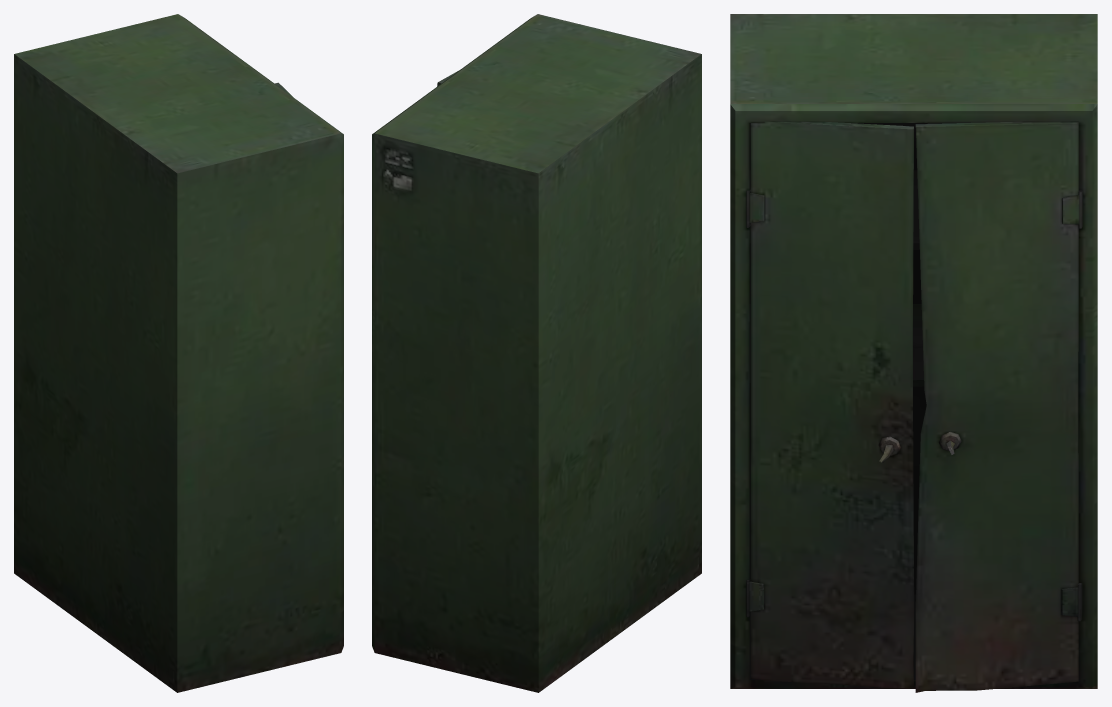
Rendered from controlroom_storagecloset001b.glb.
3 views of the same model, side by side, from view 1: azimuth 30°, elevation 25°; view 2: azimuth 150°, elevation 25°; view 3: azimuth 270°, elevation 25° (orthographic). The views are drawn at different scales.
Parts seen in each view (by area): view 1: 0_controlroom_cabinets001; view 2: 0_controlroom_cabinets001; view 3: 0_controlroom_cabinets001.
Boxes of the visible parts, x1=… form: 0_controlroom_cabinets001: x1=14, y1=14, x2=343, y2=692; 0_controlroom_cabinets001: x1=372, y1=14, x2=701, y2=692; 0_controlroom_cabinets001: x1=730, y1=14, x2=1097, y2=692.
Bounding box in the file's own units: 0.8991 × 2.2 × 1.25.
1 material, 1 textured.
